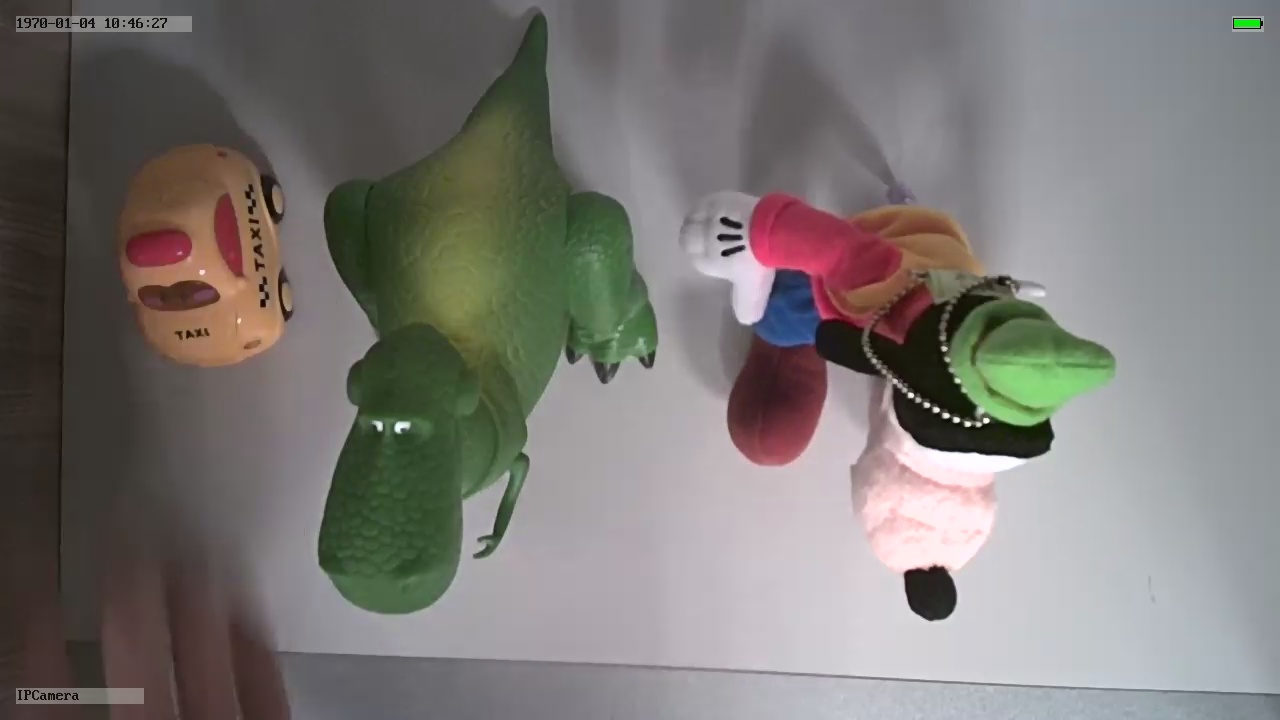car: (116, 135, 297, 374)
goofy: (668, 174, 1124, 631)
rex: (320, 101, 660, 617)
